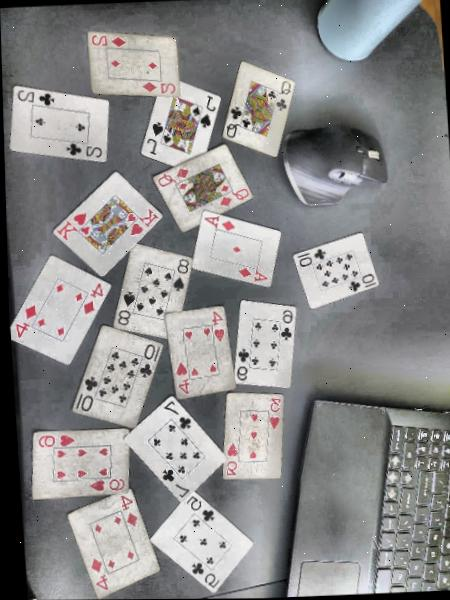10T: (74, 376, 104, 418), (133, 341, 163, 381), (291, 244, 327, 270), (344, 269, 378, 294)
2D: (84, 30, 129, 52), (141, 79, 179, 99)
2T: (14, 86, 57, 111), (64, 143, 107, 160)
3C: (263, 394, 285, 435), (221, 441, 242, 480)
4C: (170, 358, 192, 402), (208, 307, 227, 342)
4D: (82, 552, 114, 598), (12, 303, 43, 342), (117, 489, 144, 529), (80, 280, 110, 315)
5T: (186, 554, 224, 594), (185, 491, 226, 524)
6C: (29, 431, 75, 453), (83, 474, 130, 492)
6T: (274, 306, 299, 344), (234, 348, 256, 383)
7T: (158, 459, 195, 506), (162, 394, 198, 435)
8P: (112, 290, 141, 331), (167, 254, 194, 294)
AD: (233, 267, 278, 287), (199, 213, 239, 234)
JP: (141, 119, 170, 160), (196, 93, 221, 133)
KC: (50, 206, 96, 241), (126, 208, 166, 237)
QD: (153, 162, 191, 190), (217, 181, 252, 208)
QT: (273, 78, 301, 115), (222, 104, 250, 139)
